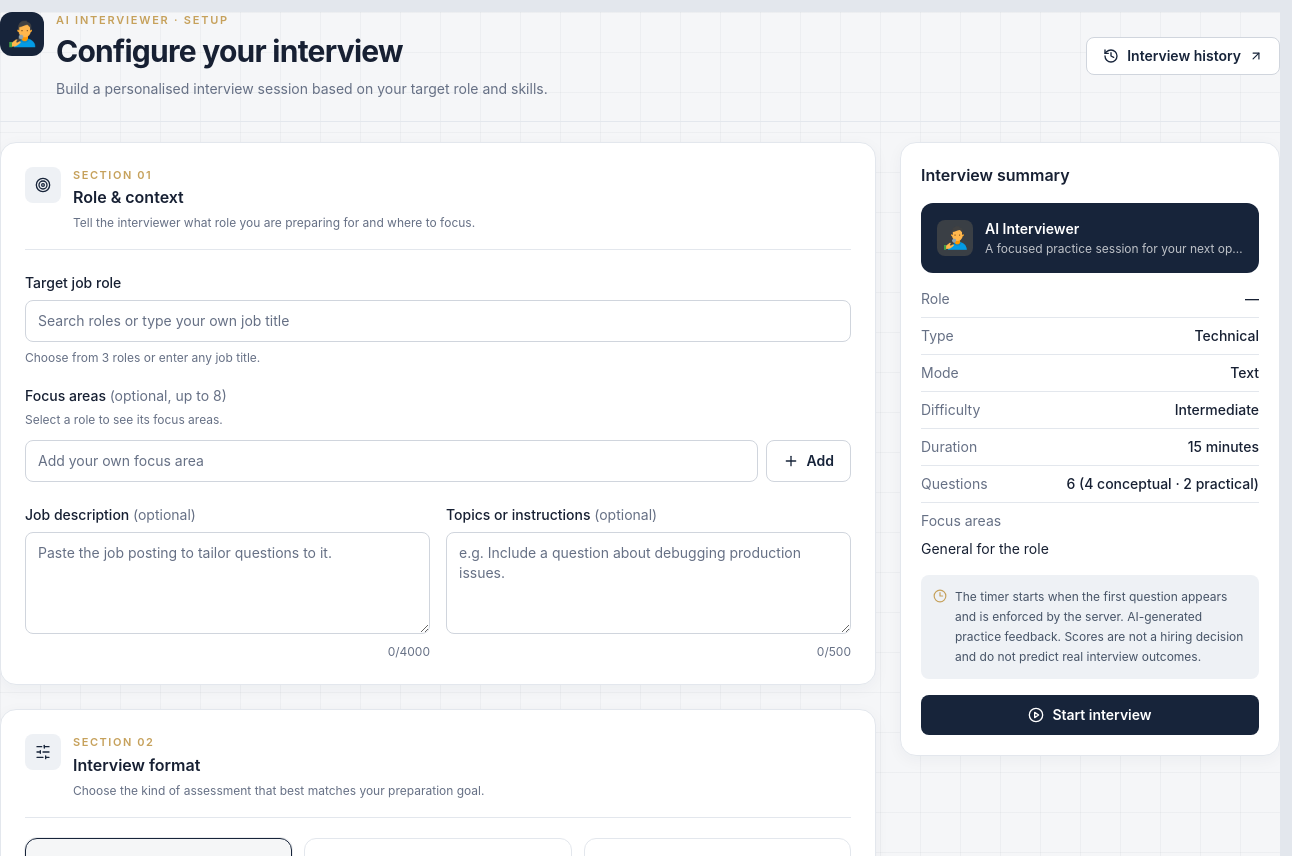
Test case: focus areas come from the selected role and change with it
In the field labelled "Target job role": (438, 321) [25,300,851,342], type "Frontend Developer"
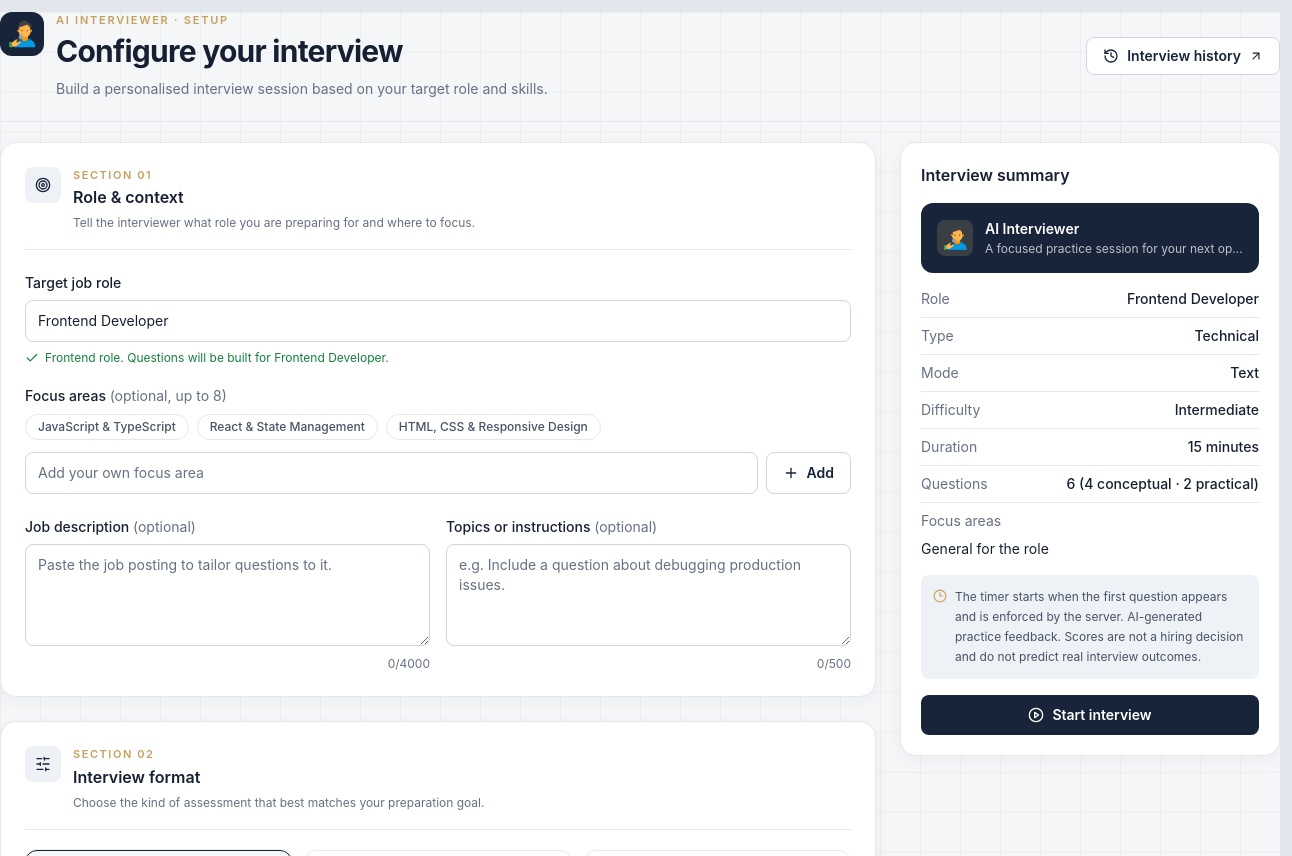
Check: the button "IP Addressing & Subnetting" is not shown
Check: the button "React & State Management" is shown
Click the button "React & State Management": (287, 427) [197,414,378,440]
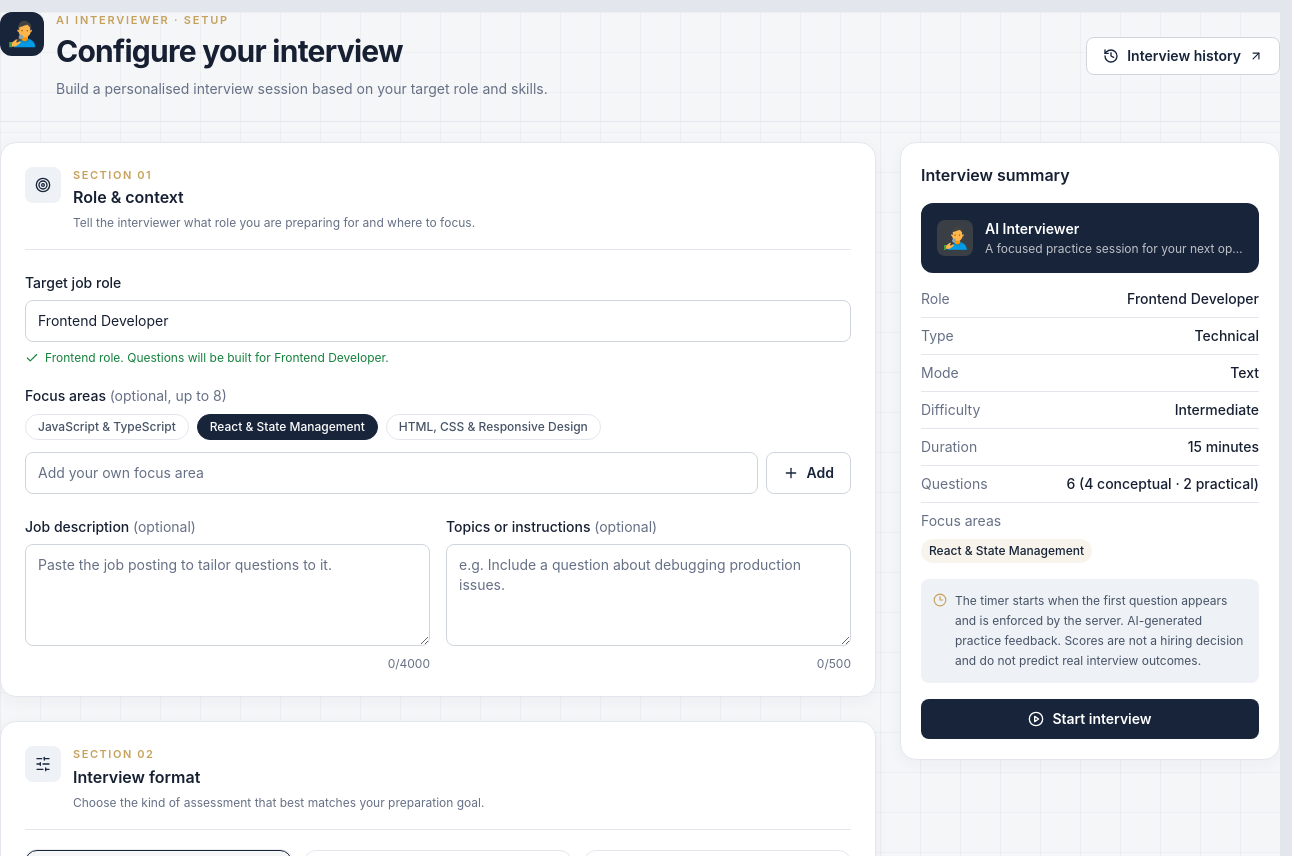
Check: the button "React & State Management" is pressed, box [197,414,378,440]
Replace the text in the field labelled "Target job role" with "Network Engineer": (438, 321) [25,300,851,342]
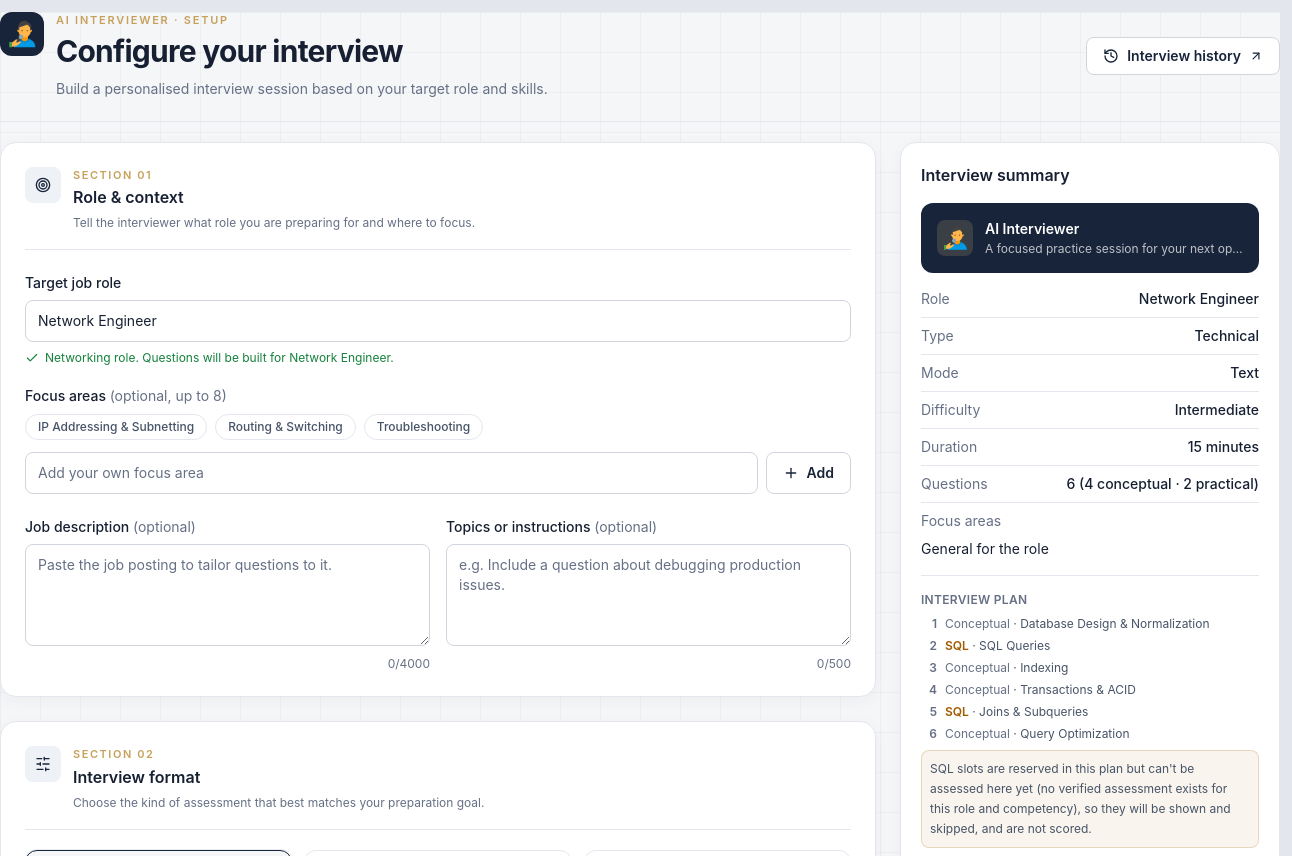
Check: the button "IP Addressing & Subnetting" is shown, box [25,414,207,440]
Check: the button "React & State Management" is gone
Check: the text "General for the role" is shown, box [921,540,1049,556]
